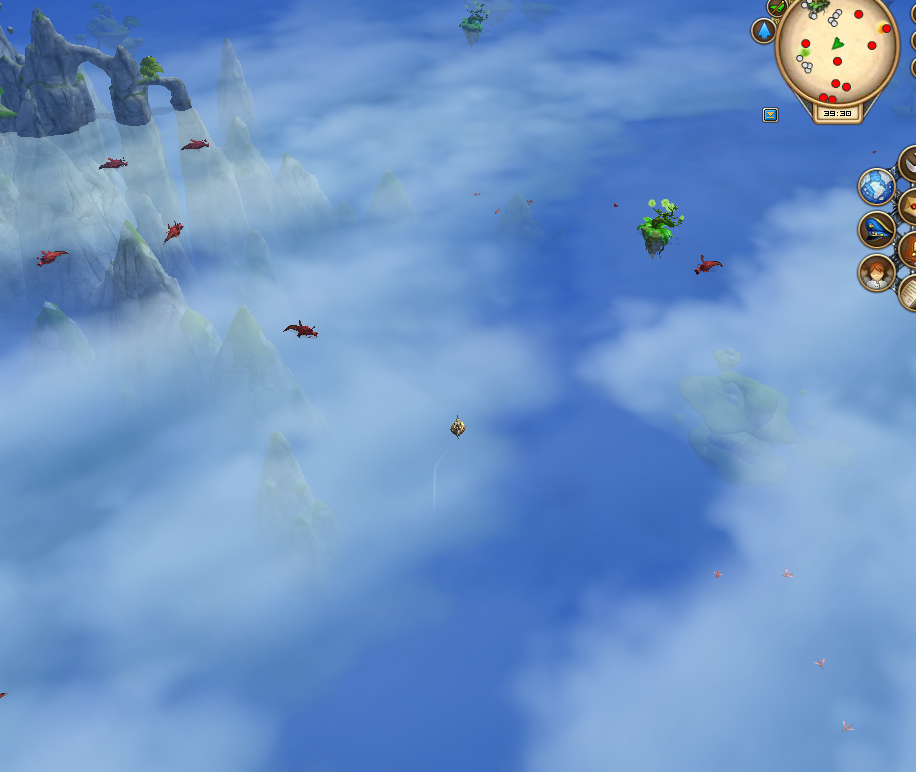dandelion-full: (635, 192, 685, 263), (456, 2, 492, 48)
